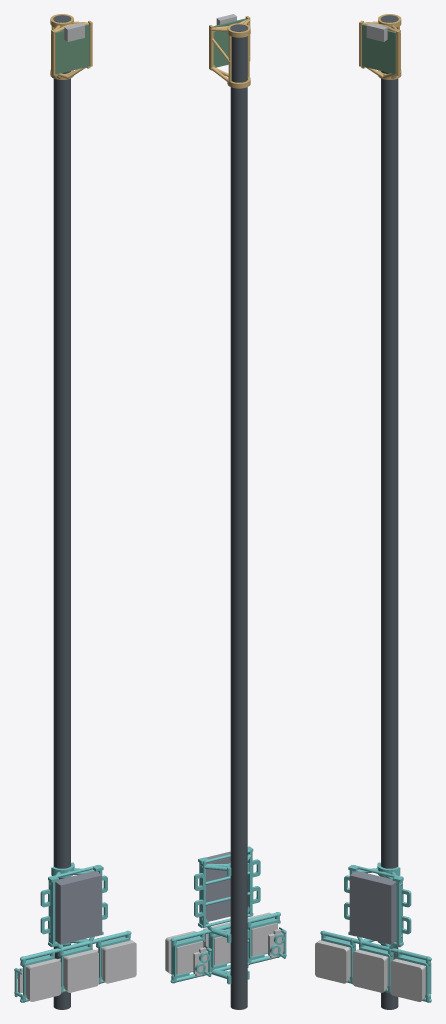
The model's file is Assembly-reference.glb.
3 views of the same model, side by side, from view 1: azimuth 30°, elevation 25°; view 2: azimuth 210°, elevation 25°; view 3: azimuth 330°, elevation 25° (orthographic).
Visible parts, largest first — view 1: REFERENCE_rod, Key_Battery_Carrier, REFERENCE_battery, REFERENCE_key_0_cap, REFERENCE_key_2_cap, REFERENCE_key_1_cap, REFERENCE_pcb, XIAO_Rod_Holder, REFERENCE_usb; view 2: REFERENCE_rod, Key_Battery_Carrier, REFERENCE_battery, XIAO_Rod_Holder, REFERENCE_pcb, REFERENCE_key_2_switch, REFERENCE_key_0_switch, REFERENCE_key_1_switch; view 3: REFERENCE_rod, Key_Battery_Carrier, REFERENCE_battery, REFERENCE_key_1_cap, REFERENCE_key_2_cap, REFERENCE_key_0_cap, REFERENCE_pcb, XIAO_Rod_Holder, REFERENCE_usb.
Part boxes in pixels (box(x1,y1,x2,y2)): REFERENCE_rod: box(53, 15, 70, 1009); Key_Battery_Carrier: box(14, 862, 131, 1002); REFERENCE_battery: box(55, 871, 101, 944); REFERENCE_key_0_cap: box(26, 958, 61, 1001); REFERENCE_key_2_cap: box(102, 940, 136, 983); REFERENCE_key_1_cap: box(64, 949, 98, 992); REFERENCE_pcb: box(55, 24, 89, 74); XIAO_Rod_Holder: box(50, 14, 92, 79); REFERENCE_usb: box(64, 23, 84, 41); REFERENCE_rod: box(230, 24, 247, 1009); Key_Battery_Carrier: box(170, 846, 286, 984); REFERENCE_battery: box(206, 851, 230, 921); XIAO_Rod_Holder: box(209, 16, 250, 88); REFERENCE_pcb: box(213, 18, 245, 67); REFERENCE_key_2_switch: box(176, 941, 203, 974); REFERENCE_key_0_switch: box(251, 923, 277, 956); REFERENCE_key_1_switch: box(214, 936, 230, 965); REFERENCE_rod: box(381, 15, 398, 1009); Key_Battery_Carrier: box(320, 862, 431, 1002); REFERENCE_battery: box(349, 871, 396, 944); REFERENCE_key_1_cap: box(352, 949, 387, 992); REFERENCE_key_2_cap: box(390, 958, 424, 1001); REFERENCE_key_0_cap: box(315, 940, 349, 983); REFERENCE_pcb: box(362, 24, 395, 74); XIAO_Rod_Holder: box(359, 14, 401, 79); REFERENCE_usb: box(366, 23, 387, 41).
Bounding box in the file's own units: 59.1 × 501 × 24.8.
